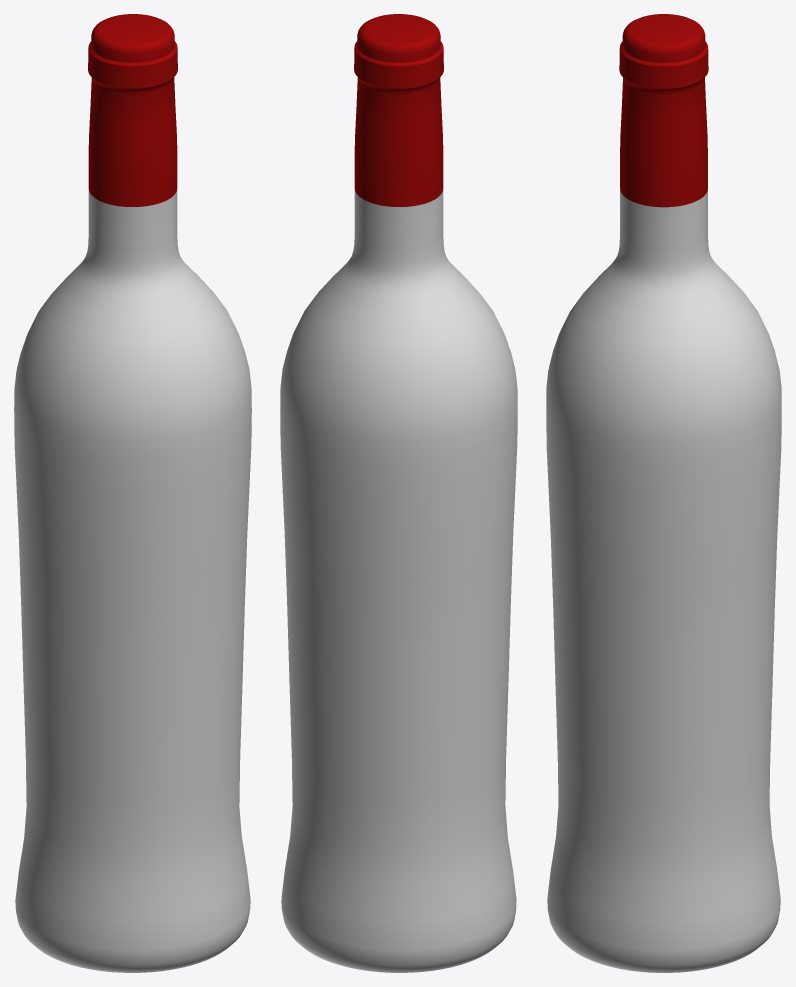
The model's file is final_bottle.glb.
3 views of the same model, side by side, from view 1: azimuth 30°, elevation 25°; view 2: azimuth 150°, elevation 25°; view 3: azimuth 270°, elevation 25° (orthographic).
Visible parts, largest first — view 1: Wine_Rose_By_Ott_Domaines_Ott; view 2: Wine_Rose_By_Ott_Domaines_Ott; view 3: Wine_Rose_By_Ott_Domaines_Ott.
Boxes of the visible parts, x1,y1,x2,y2 form: Wine_Rose_By_Ott_Domaines_Ott: (14, 14, 251, 972); Wine_Rose_By_Ott_Domaines_Ott: (280, 14, 517, 972); Wine_Rose_By_Ott_Domaines_Ott: (546, 14, 781, 972).
Size of the model in its own units: 0.0774 by 0.3236 by 0.0766.
2 materials, 1 textured.
